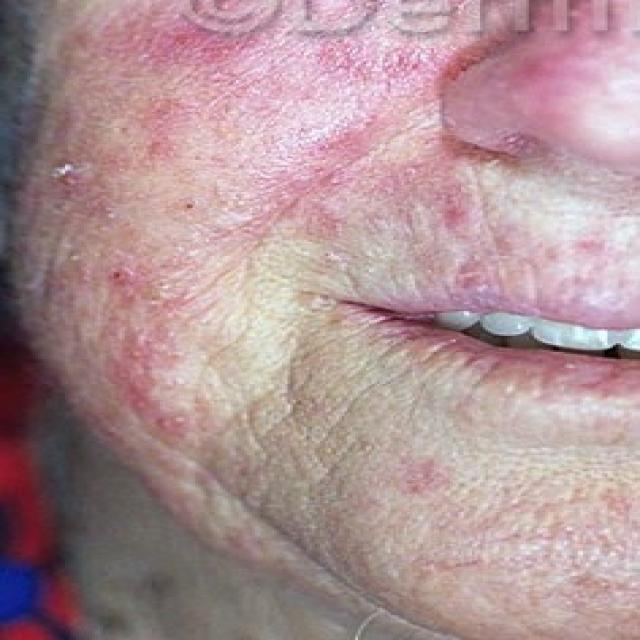Rosacea: (95, 15, 438, 122)
